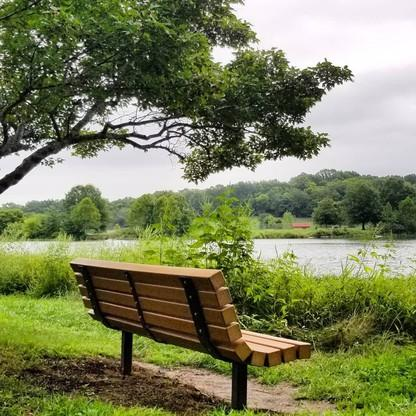obstacle: (60, 256, 323, 401)
